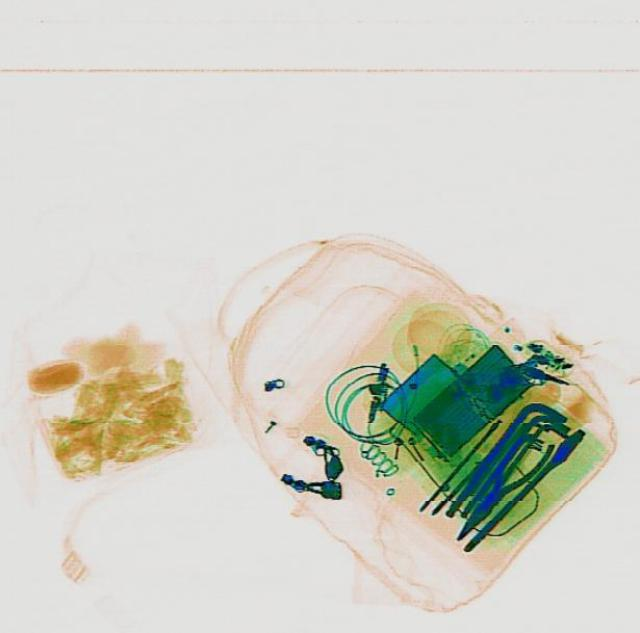Pliers: (439, 425, 556, 552)
